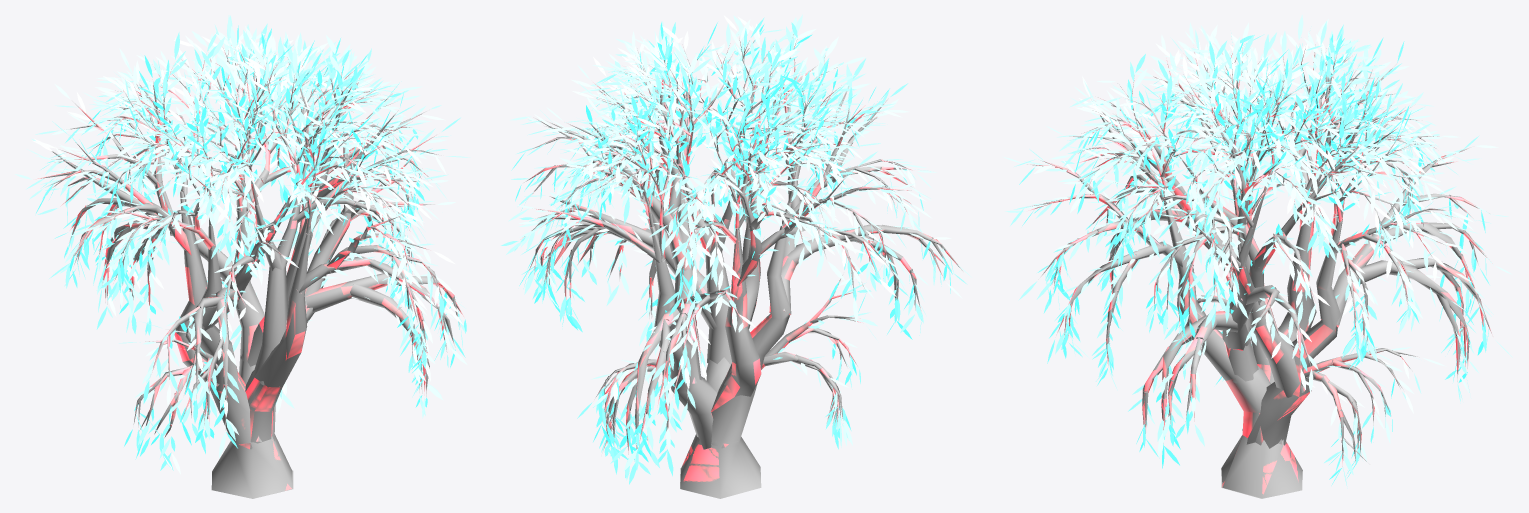
File: bigtree2.fbx
3 renders of one model, left to right at view 1: azimuth 30°, elevation 25°; view 2: azimuth 150°, elevation 25°; view 3: azimuth 270°, elevation 25°, orthographic.
Parts seen in each view (by area): view 1: leaves.001, bigtree2; view 2: leaves.001, bigtree2; view 3: leaves.001, bigtree2.
Part boxes in pixels (x1,y1,x2,y2): leaves.001: (15, 15, 470, 474); bigtree2: (35, 45, 464, 498); leaves.001: (501, 14, 971, 484); bigtree2: (520, 34, 963, 498); leaves.001: (1002, 15, 1512, 488); bigtree2: (1026, 44, 1493, 498).
Bounding box in the file's own units: 1349 × 1417 × 1528.
